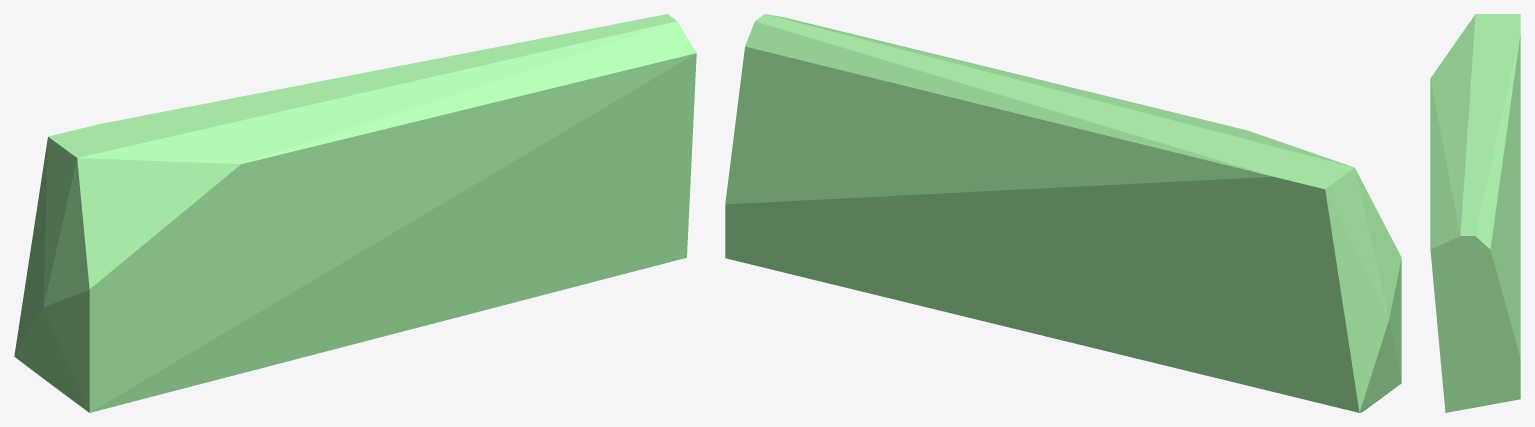
Rendered from rambler_robot_base_coll_58.dae.
3 views of the same model, side by side, from view 1: azimuth 30°, elevation 25°; view 2: azimuth 150°, elevation 25°; view 3: azimuth 270°, elevation 25° (orthographic). The views are drawn at different scales.
Parts seen in each view (by area): view 1: Node_0x7fe100285c80; view 2: Node_0x7fe100285c80; view 3: Node_0x7fe100285c80.
Boxes of the visible parts, x1=… form: Node_0x7fe100285c80: x1=14, y1=14, x2=696, y2=412; Node_0x7fe100285c80: x1=725, y1=14, x2=1401, y2=412; Node_0x7fe100285c80: x1=1430, y1=14, x2=1520, y2=412.
Bounding box in the file's own units: 0.5064 × 0.178 × 0.0821.
